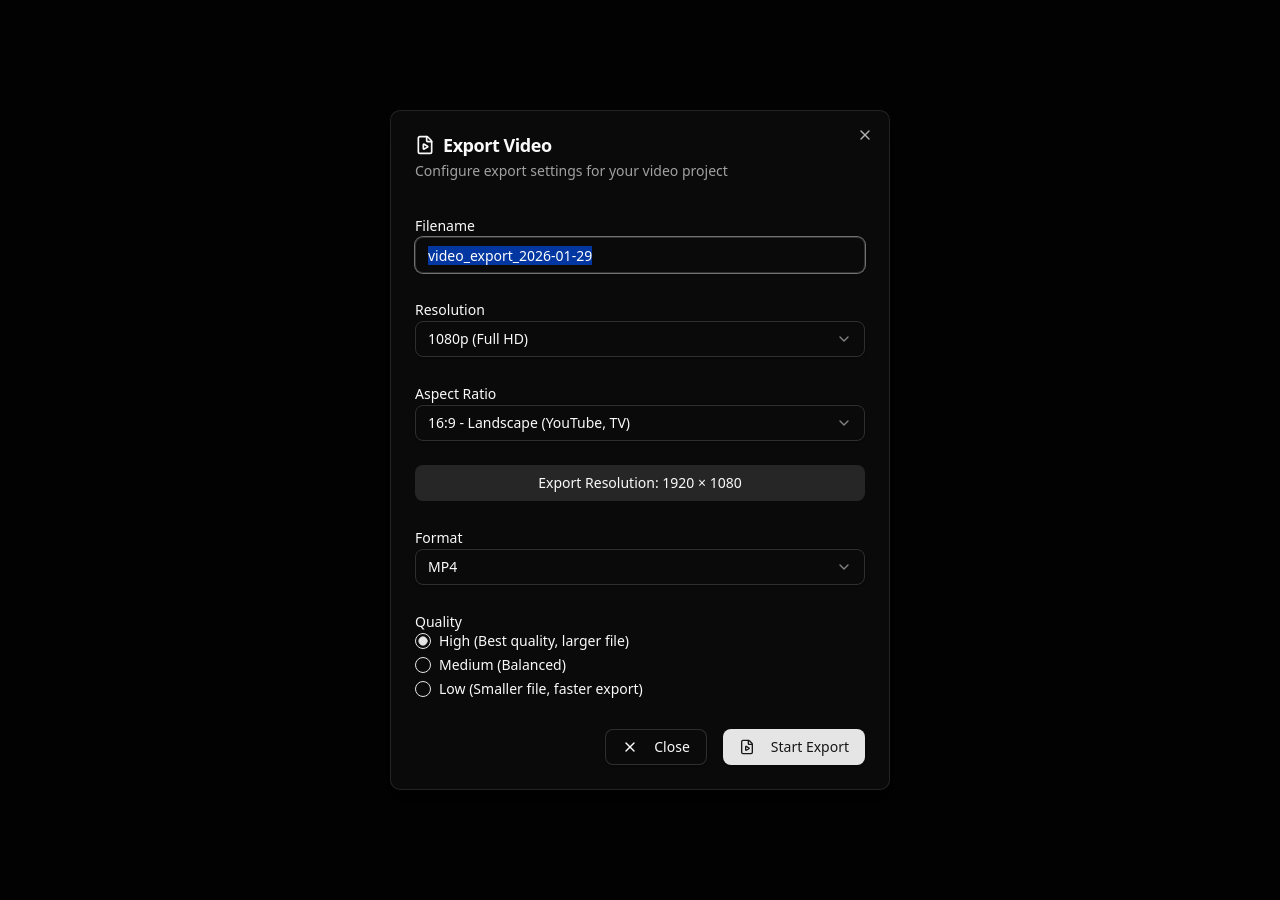
Scenario: ExportDialog Component › Export Flow › should show loading state during export
Click the button "Start Export" at (794, 747), box [723,729,865,765]
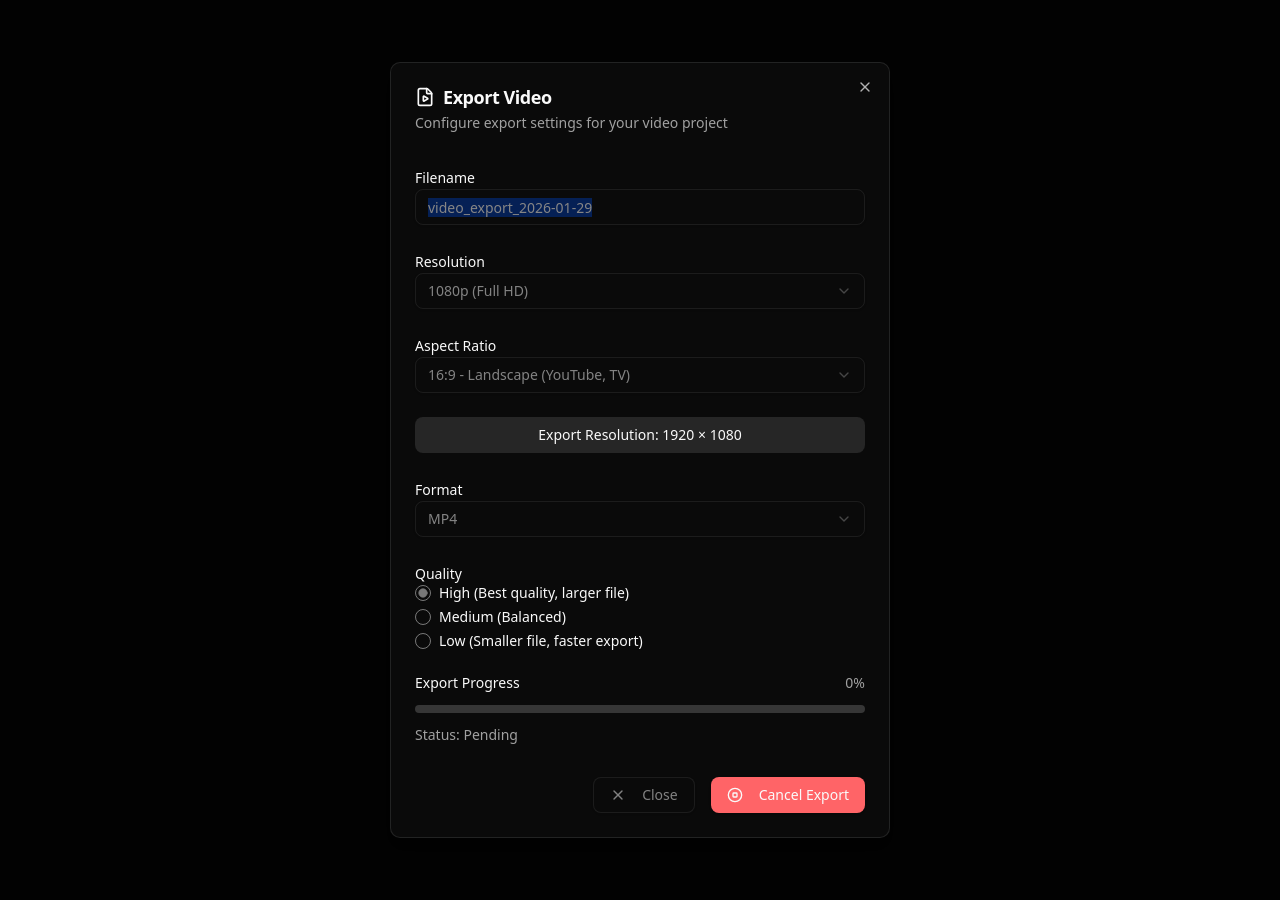
expect the button "Cancel Export" is shown: met, box [711,777,865,813]
